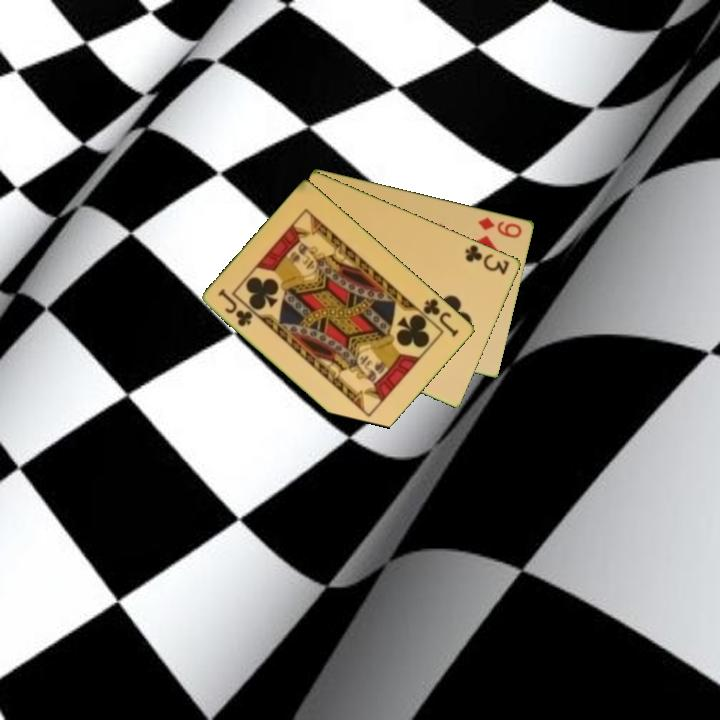3c: (462, 241, 512, 278)
9d: (475, 213, 525, 241)
Jc: (420, 295, 462, 340), (215, 285, 256, 330)
